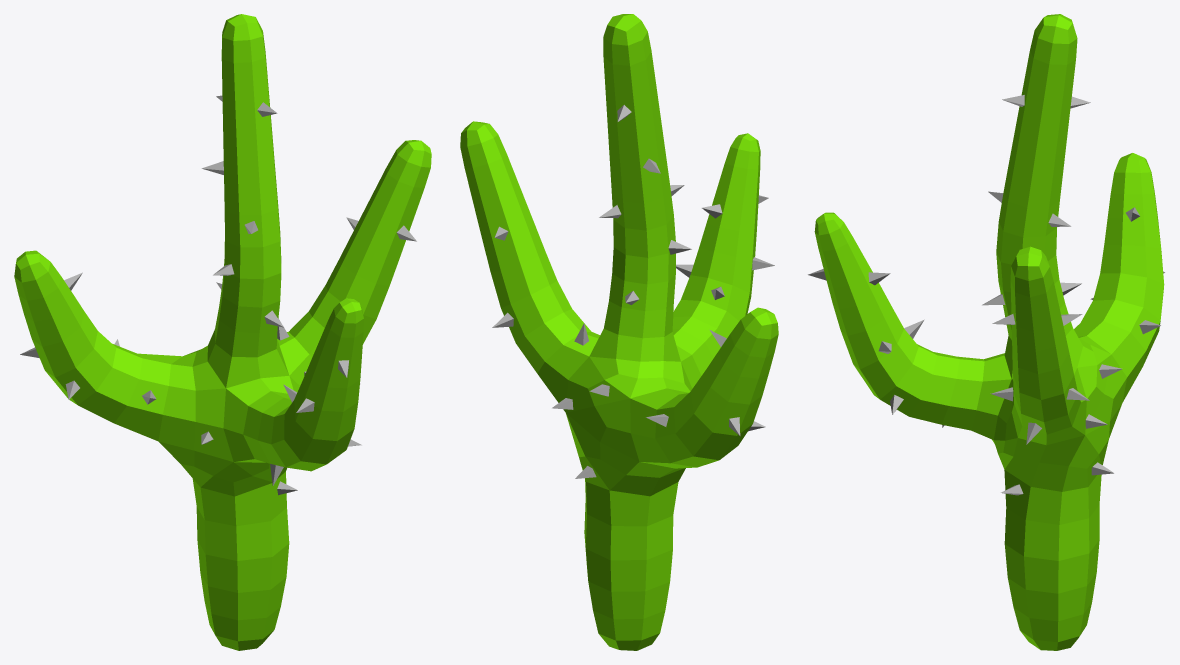
Rendered from cactus5.fbx.
3 views of the same model, side by side, from view 1: azimuth 30°, elevation 25°; view 2: azimuth 150°, elevation 25°; view 3: azimuth 270°, elevation 25° (orthographic).
Visible parts, largest first — view 1: cactus5, Cone.005; view 2: cactus5, Cone.005; view 3: cactus5, Cone.005.
Part boxes in pixels (<box>): cactus5: <box>14,14,431,650</box>; Cone.005: <box>20,95,416,495</box>; cactus5: <box>460,14,778,650</box>; Cone.005: <box>492,105,774,478</box>; cactus5: <box>814,14,1164,650</box>; Cone.005: <box>808,95,1164,495</box>.
Size of the model in its own units: 158 by 263 by 135.
